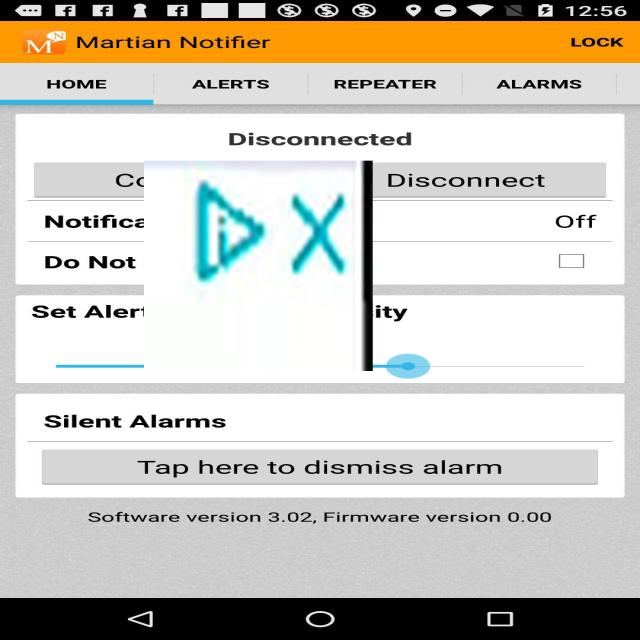sneaking: (144, 161, 373, 371)
